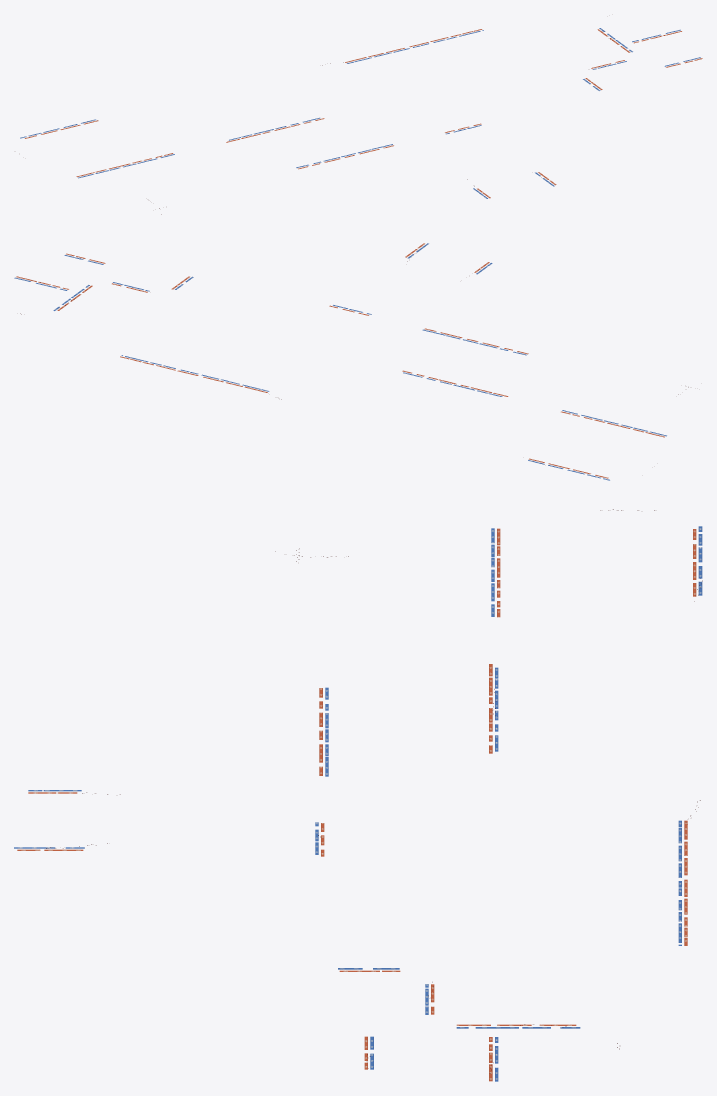
The model's file is FloorStrips_Footprints.fbx.
3 views of the same model, one above another, from view 1: azimuth 30°, elevation 25°; view 2: azimuth 150°, elevation 25°; view 3: azimuth 270°, elevation 25° (orthographic). The views are drawn at different scales.
Parts seen in each view (by area): view 1: FloorStrips_Footprints; view 2: FloorStrips_Footprints; view 3: FloorStrips_Footprints.
Boxes of the visible parts, x1,y1,x2,y2 form: FloorStrips_Footprints: (20,28,702,214); FloorStrips_Footprints: (14,243,688,480); FloorStrips_Footprints: (14,509,702,1081).
Bounding box in the file's own units: 117 × 0.022 × 59.49.
